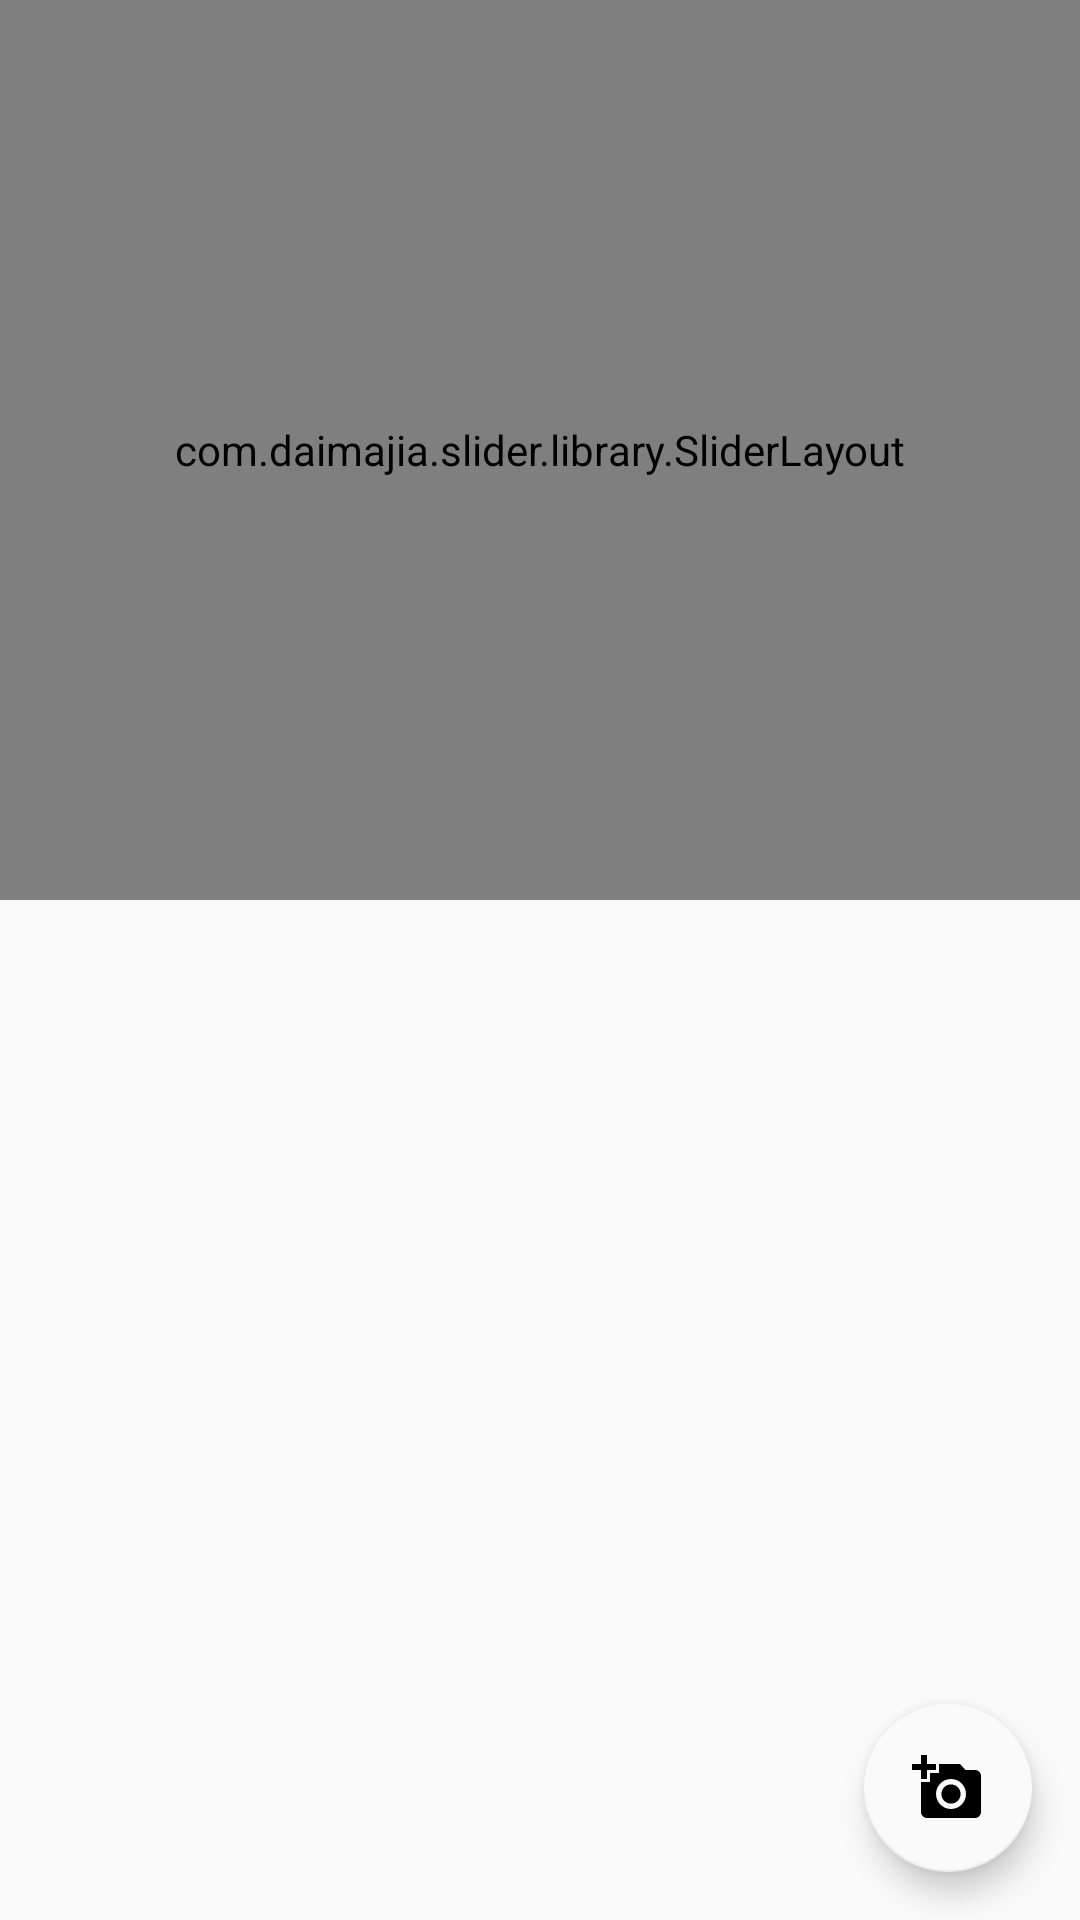

Where to tap for icons on this 1080 x 1920 app screen, as (x,y):
add memories: (946,1786)
